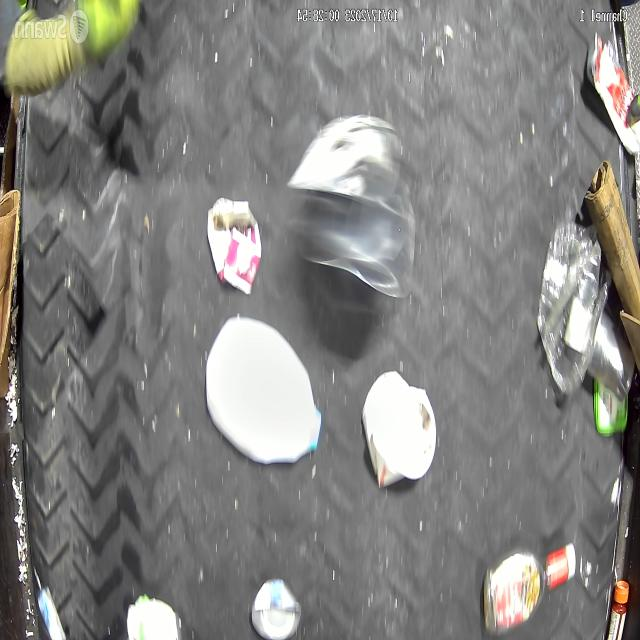can: (587, 310, 635, 401), (248, 575, 302, 640)
milk_jug: (204, 316, 323, 467)
